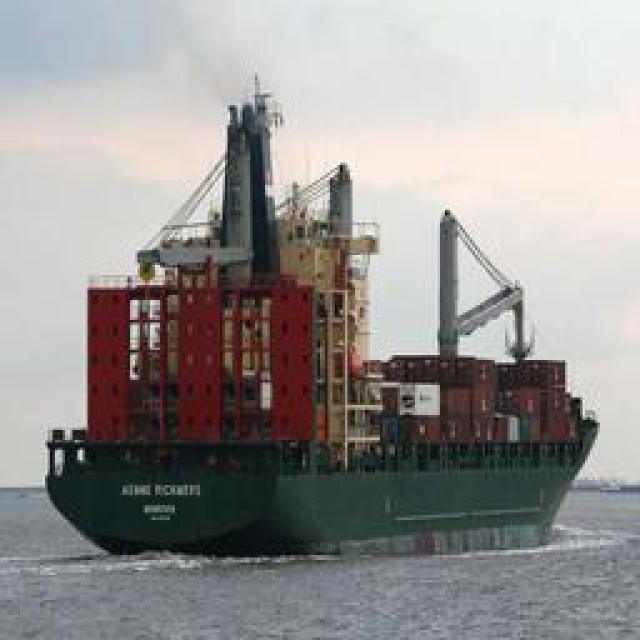Ship: (51, 70, 594, 563)
